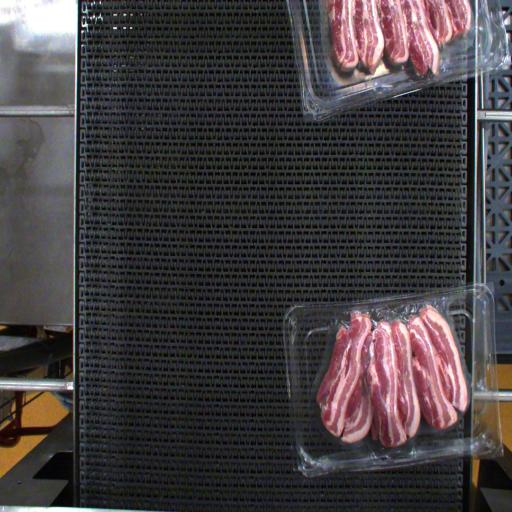unsealed: (308, 296, 476, 420)
